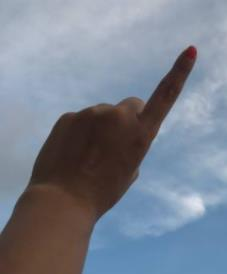up: (25, 43, 200, 194)
